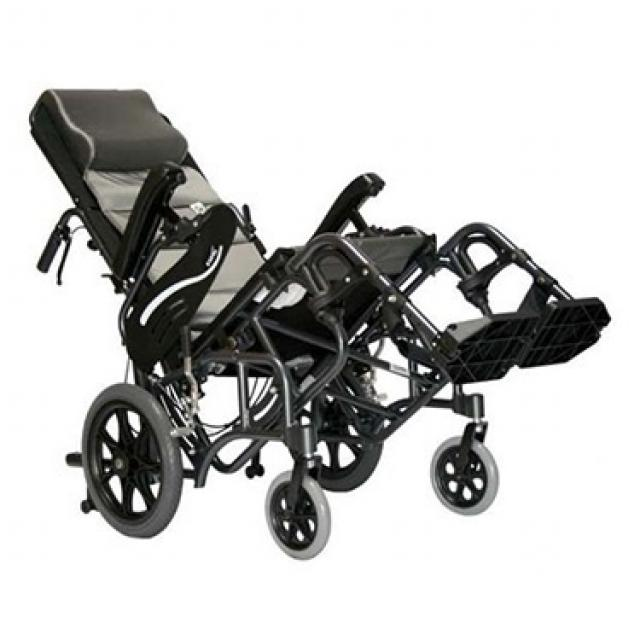wheelchair: (25, 72, 632, 566)
